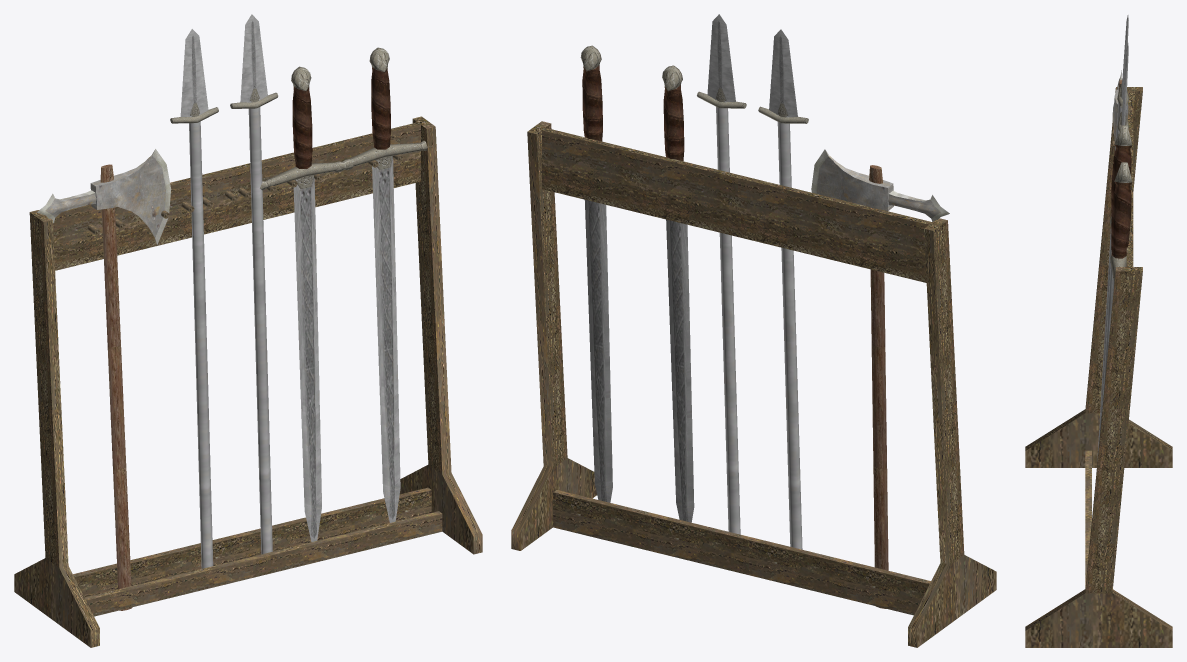
The model's file is rackA.fbx.
3 renders of one model, left to right at view 1: azimuth 30°, elevation 25°; view 2: azimuth 150°, elevation 25°; view 3: azimuth 270°, elevation 25°, orthographic. The views are drawn at different scales.
Visible parts, largest first — view 1: rackA; view 2: rackA; view 3: rackA.
Boxes of the visible parts, bbox=[...] form: rackA: bbox=[14, 14, 482, 647]; rackA: bbox=[511, 14, 996, 647]; rackA: bbox=[1025, 15, 1172, 647].
Size of the model in its own units: 1.52 by 2.01 by 0.5095.
3 materials, 3 textured.
